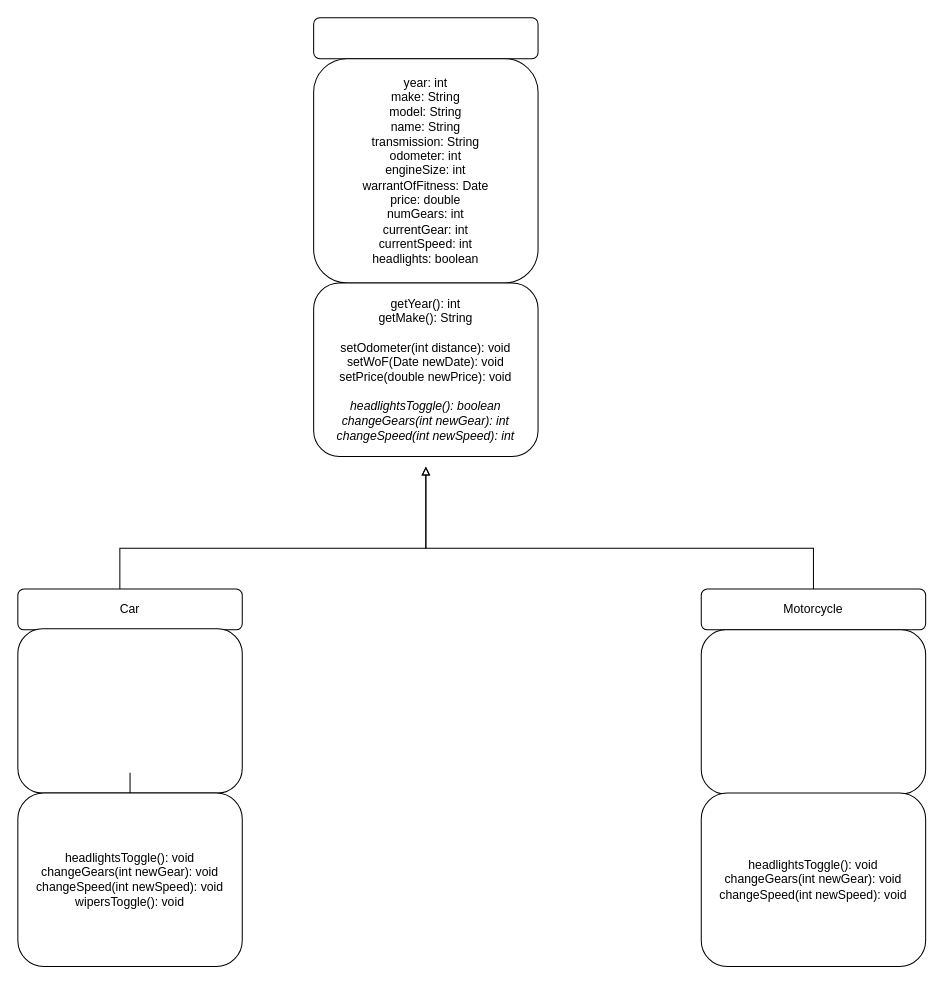
This 944x984 diagram has some shape labels left out. Here are the shapes that lost their labels. From the top down, the centre of each, then its label:
At point 425,38: "Vehicle".
At point 129,710: "numWipers: int wiperStatus: boolean".
